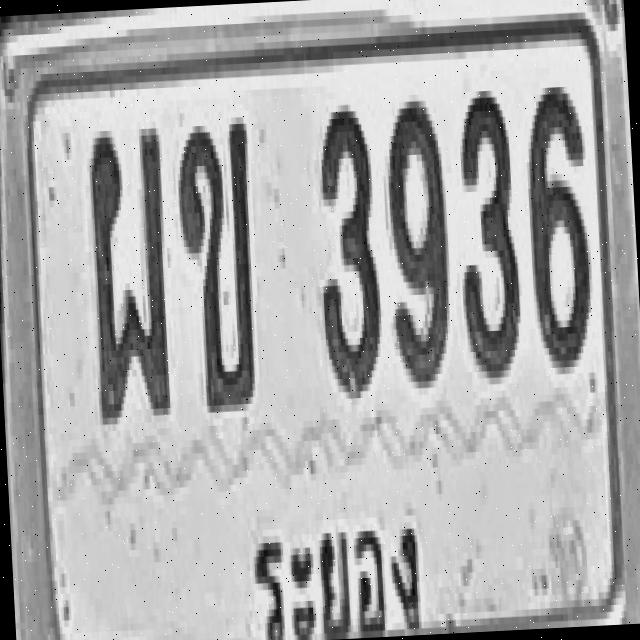11KhorKhai: (168, 86, 274, 449)
3: (292, 64, 393, 429), (444, 87, 534, 420)
37PhorPhueng: (60, 37, 176, 420)
6: (516, 69, 602, 382)
9: (378, 80, 464, 422)
Rayong: (239, 466, 458, 640)
